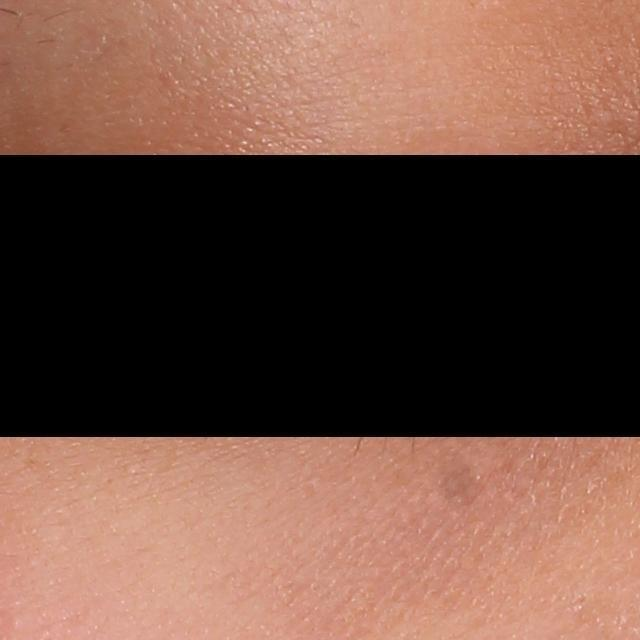other: (437, 453, 483, 512)
